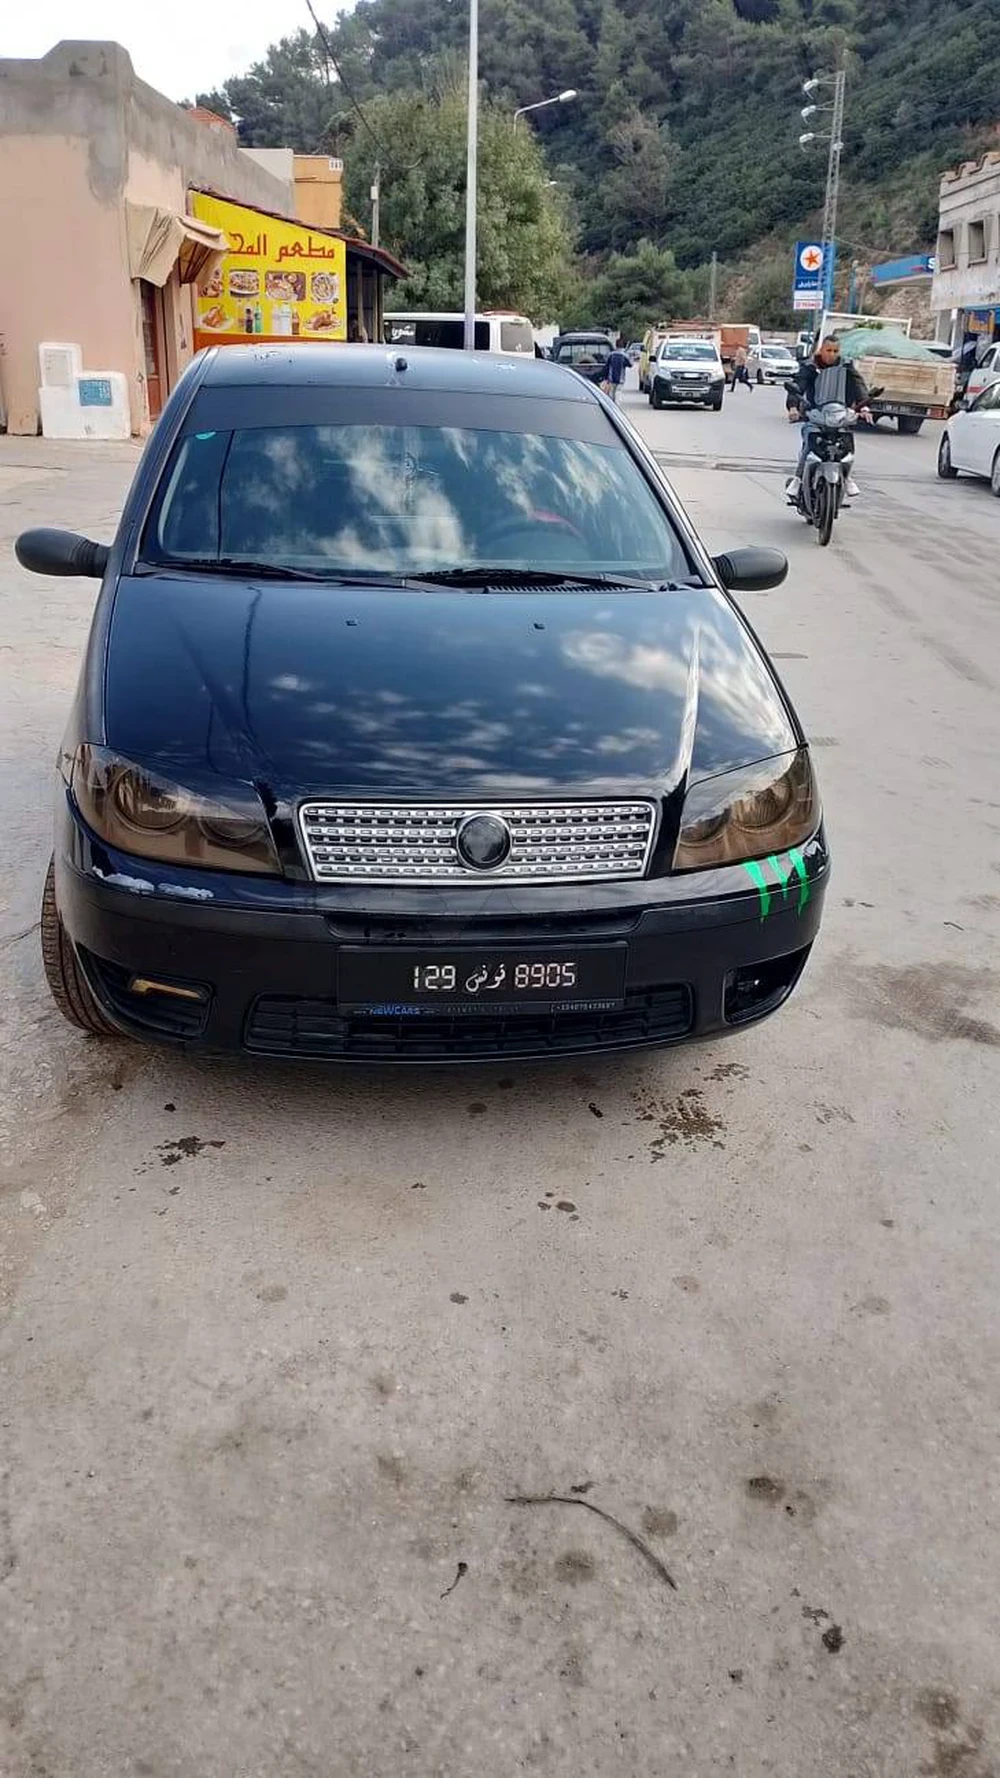fiat: (42, 337, 830, 1093)
